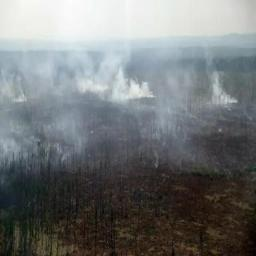Low smoke: (0, 0, 255, 179)
